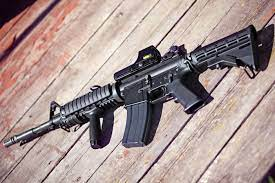gun: (51, 26, 256, 148)
